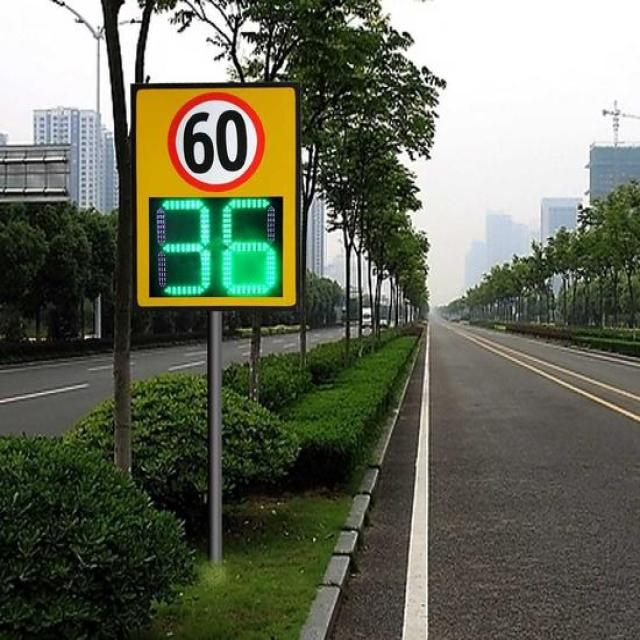speed limit 60: (169, 91, 266, 193)
